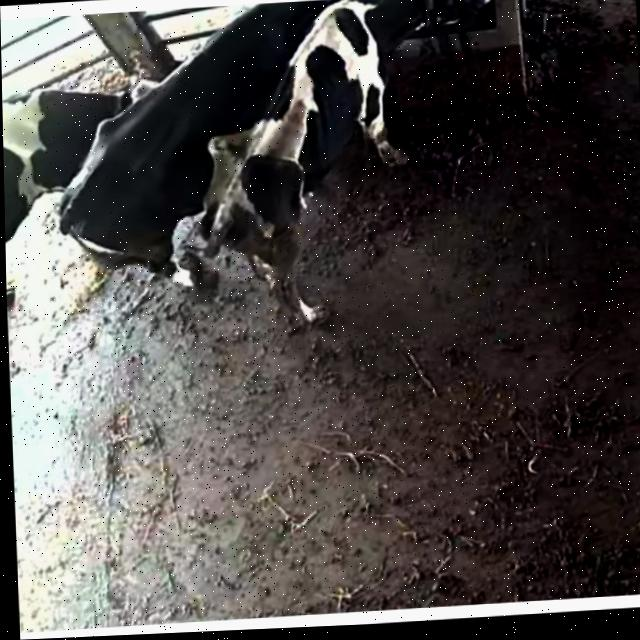drink: (232, 0, 362, 53), (377, 0, 501, 54)
